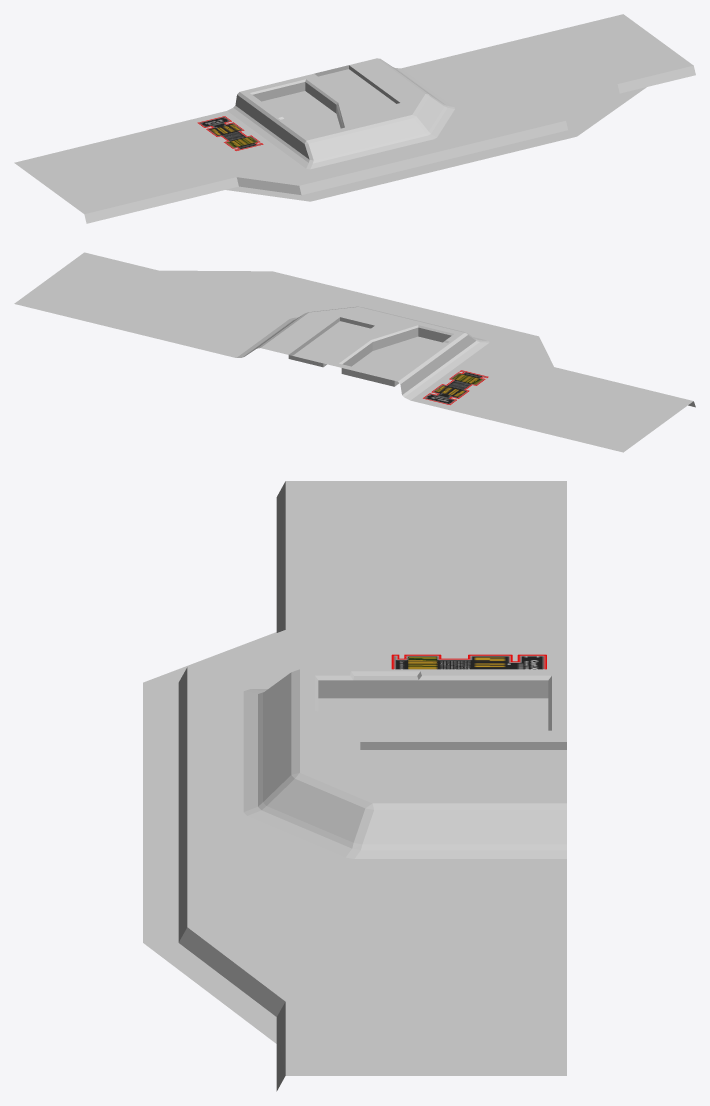
Rendered from floor_border_04.fbx.
The picture shows the model from 3 angles, top to bottom: view 1: azimuth 30°, elevation 25°; view 2: azimuth 150°, elevation 25°; view 3: azimuth 270°, elevation 25°; orthographic projection. The views are drawn at different scales.
Parts seen in each view (by area): view 1: Plane.204, Plane.208; view 2: Plane.204, Plane.208; view 3: Plane.204, Plane.208.
Part boxes in pixels (x1,y1,x2,y2): Plane.204: [14, 14, 695, 223]; Plane.208: [197, 116, 263, 150]; Plane.204: [14, 252, 695, 452]; Plane.208: [423, 370, 488, 404]; Plane.204: [143, 481, 566, 1091]; Plane.208: [391, 654, 546, 669].
Size of the model in its own units: 4 by 0.15 by 1.21.
